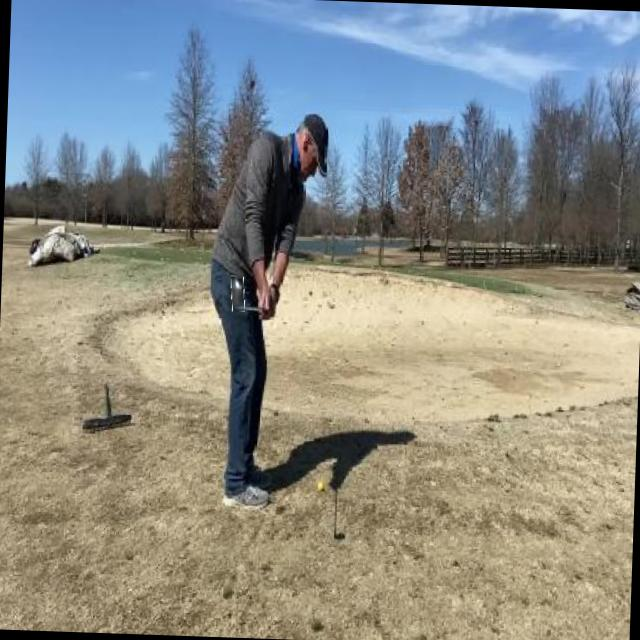club head: (230, 275, 246, 311)
